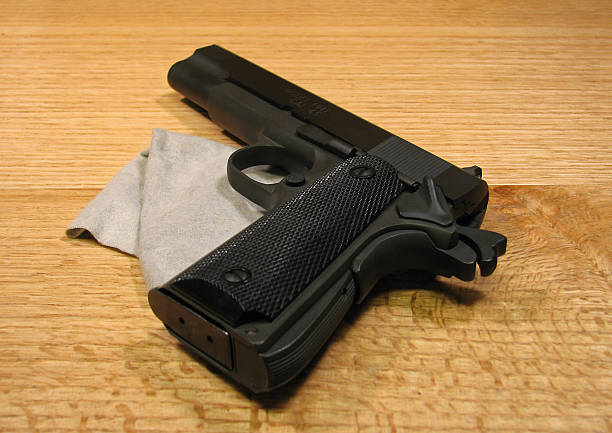gun: (146, 43, 510, 396)
